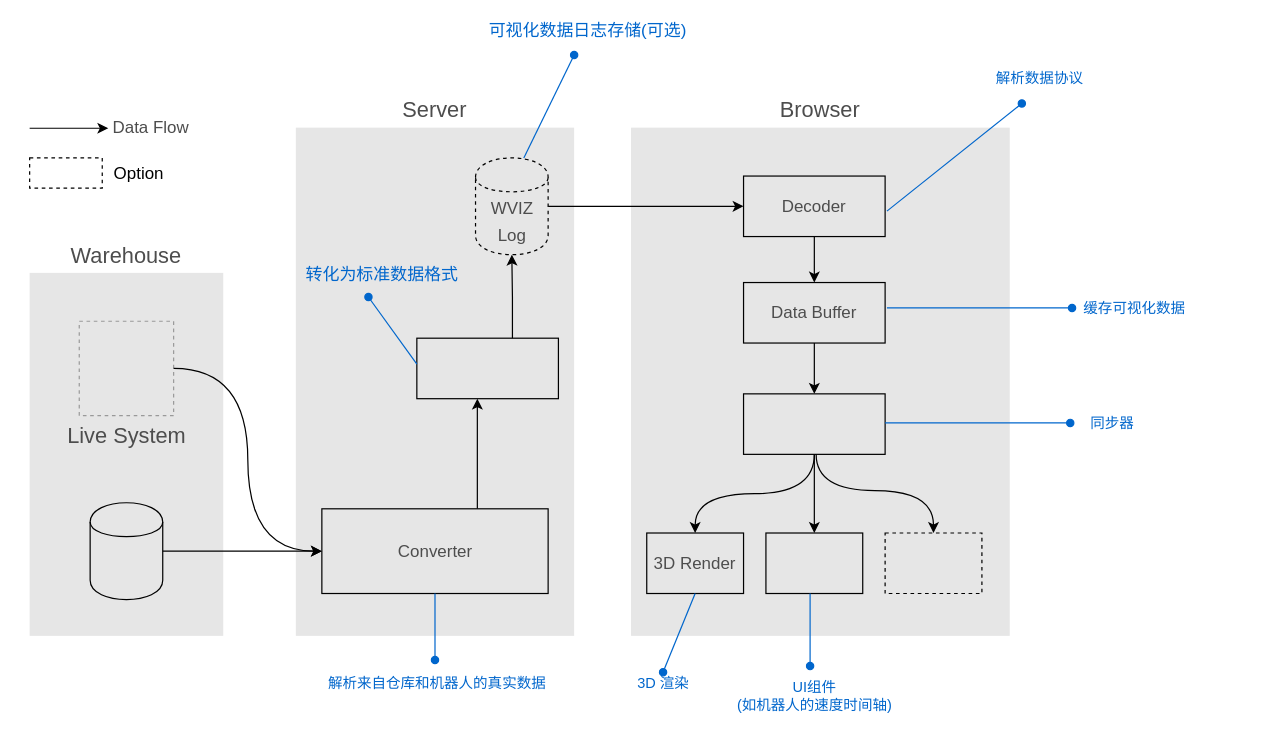
Some shapes in this 1261 by 734 pixel diagram are drawn without their labels. Grey dashed boxes stand in for pictures. Here are the shapes that lost their labels. From the top down, the centre of each, then its label:
(x=487, y=368): encoder
(x=813, y=423): Synchronizer
(x=126, y=551): Log
(x=814, y=563): UI
(x=933, y=563): 2D Render
